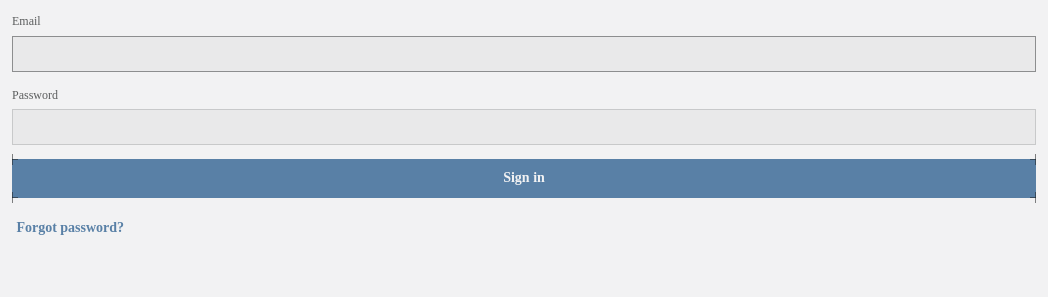
Test: LoginForm › validation (Zod, before any network call) › asks for both fields when the form is empty
Click the button "Sign in" at (524,179), box 12,159 -> 1036,198
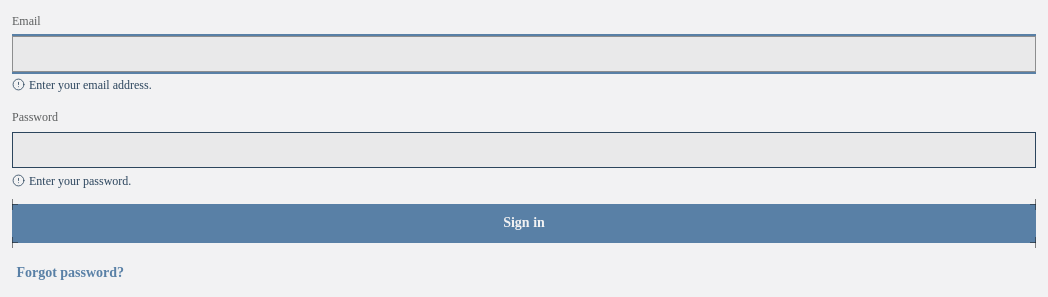
Result: the text "Enter your email address." is shown at 12,78 -> 152,92
Result: the text "Enter your password." is shown at 12,174 -> 131,188
